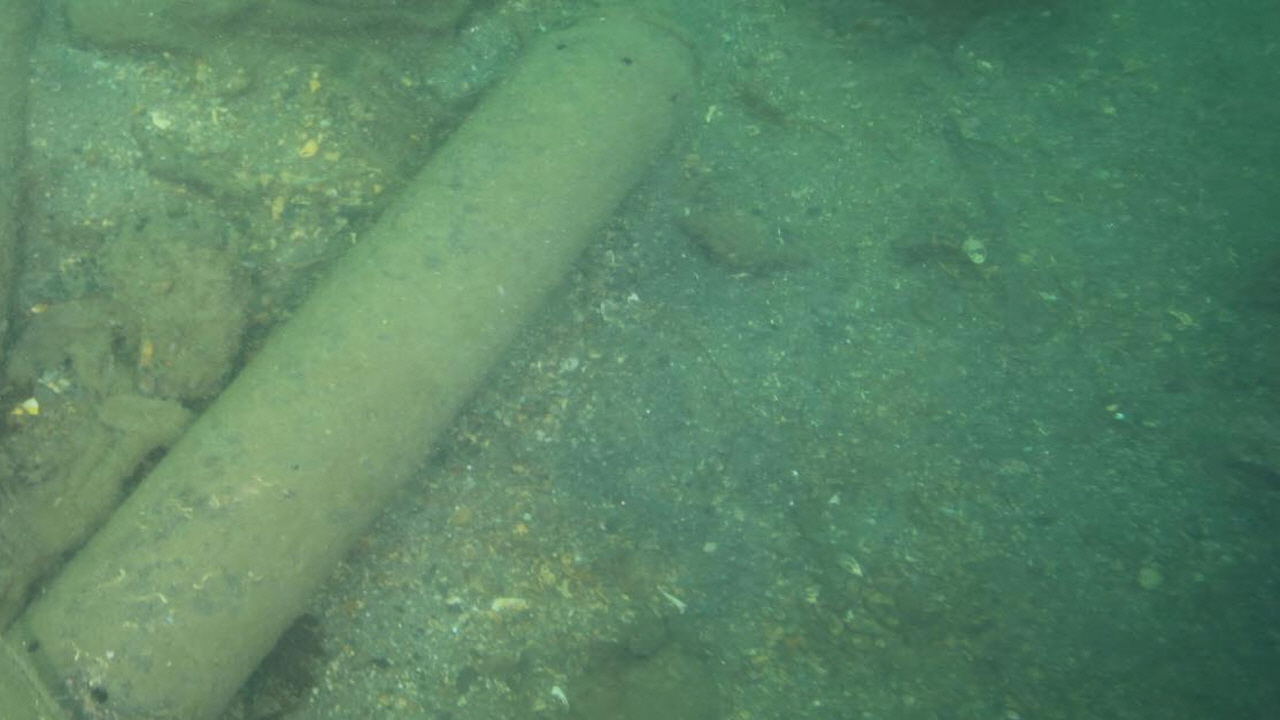eel fish trap: (0, 12, 698, 720)
